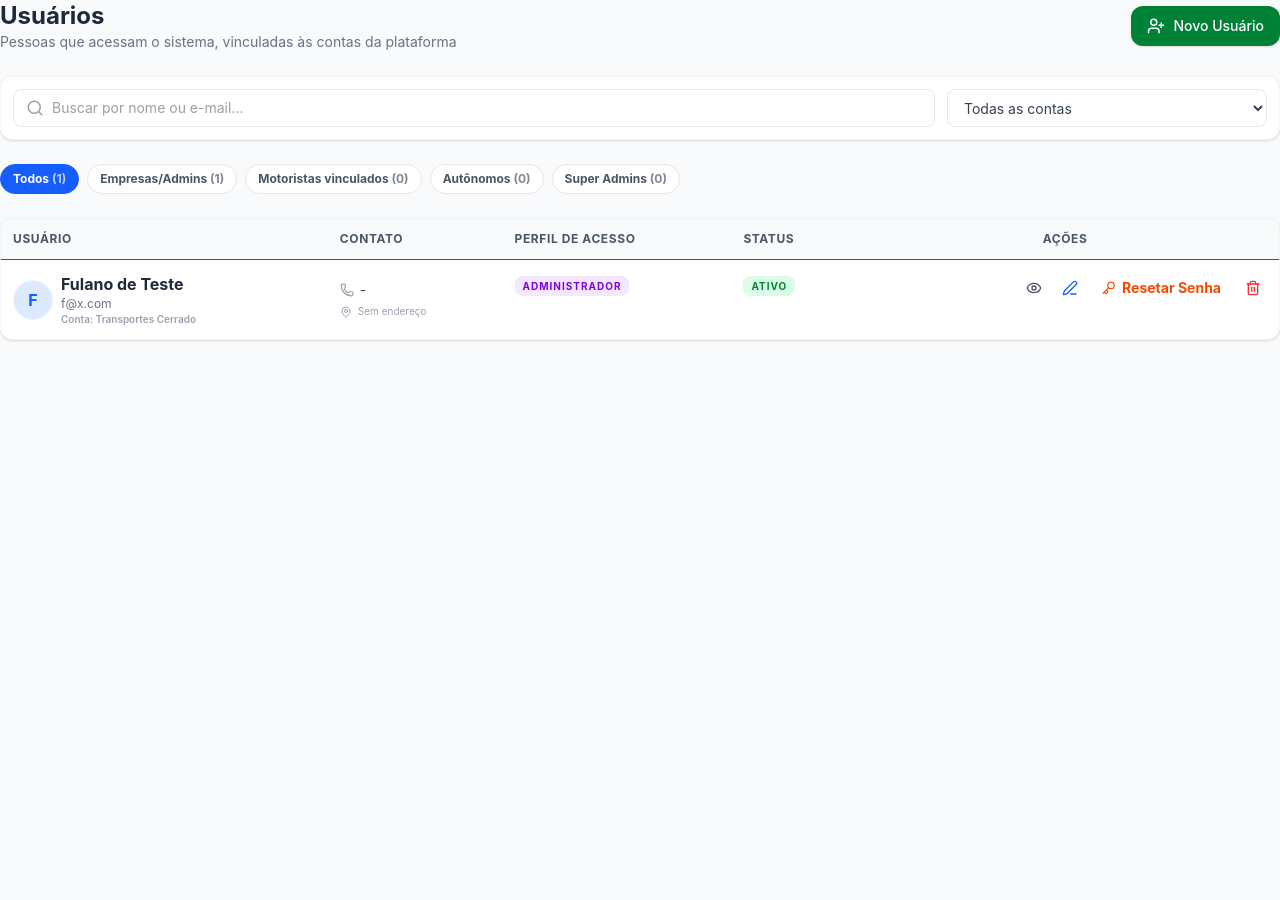
Test: Usuarios — correção da aceitação visual › TEAM-VIS-05: "Dados do usuário" oferece a ação de editar
This screenshot has width=1280, height=900.
expect the text "Fulano de Teste" is shown: met, box [61,272,196,296]
Click the button named "ver usuário" at (1034, 288), box [1020,274,1048,302]
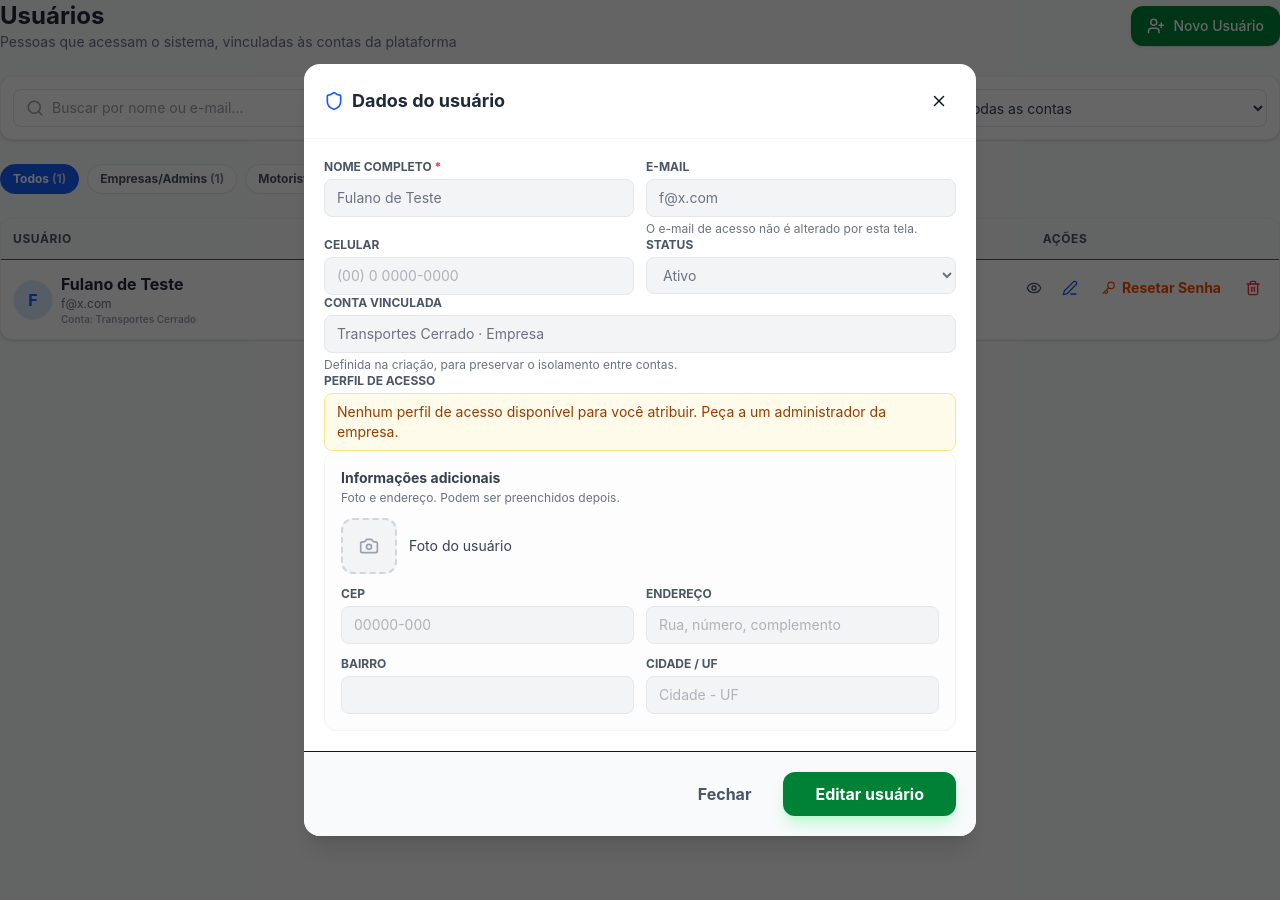
Click the button "Editar usuário" at (870, 794), box [783,772,956,816]
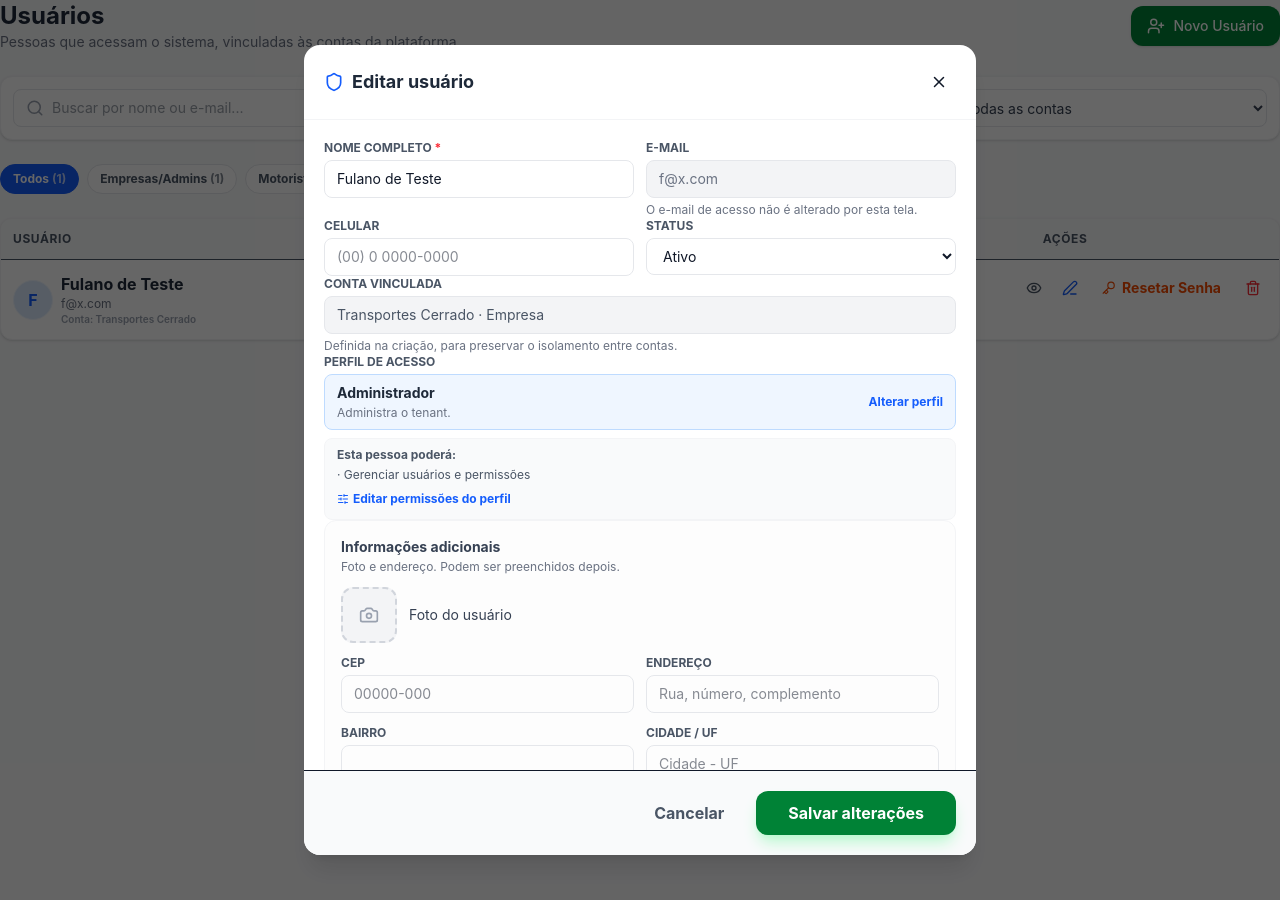
expect the button "Salvar alterações" is shown: met, box [756,791,956,835]
